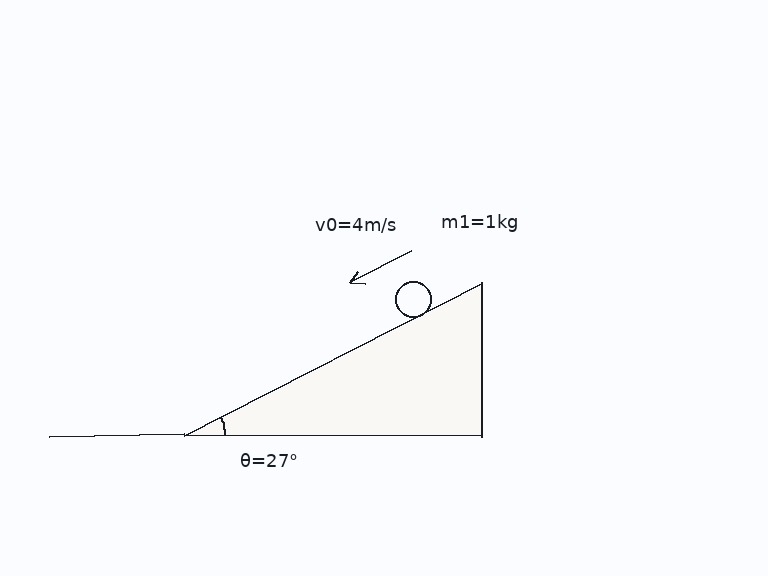ball: (393, 279, 433, 319)
ramp: (183, 282, 484, 437)
